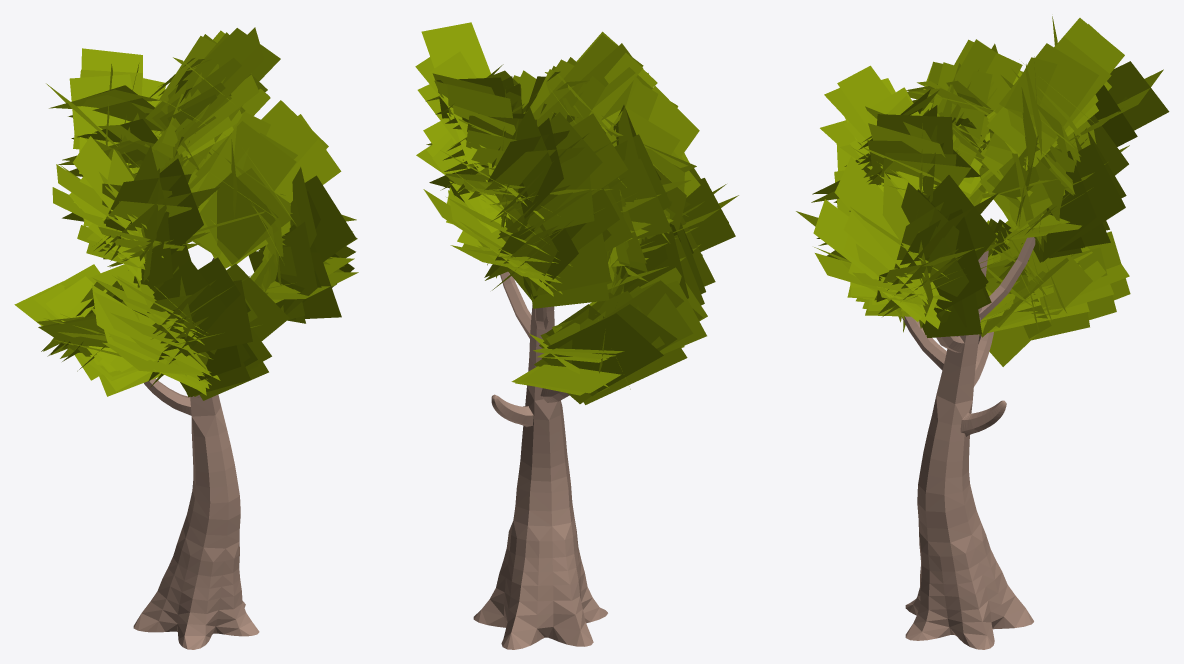
Rendered from tree_oak.glb.
3 renders of one model, left to right at view 1: azimuth 30°, elevation 25°; view 2: azimuth 150°, elevation 25°; view 3: azimuth 270°, elevation 25°, orthographic. The views are drawn at different scales.
Parts seen in each view (by area): view 1: tree_oak; view 2: tree_oak; view 3: tree_oak.
Boxes of the visible parts, x1,y1,x2,y2 form: tree_oak: (14, 27, 358, 649); tree_oak: (415, 22, 738, 649); tree_oak: (796, 16, 1169, 649).
Size of the model in its own units: 4.04 by 7.71 by 4.64.
